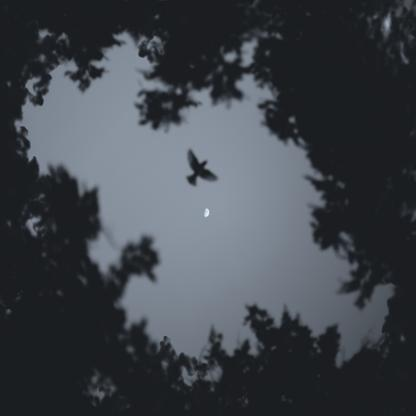bird: (185, 146, 219, 188)
